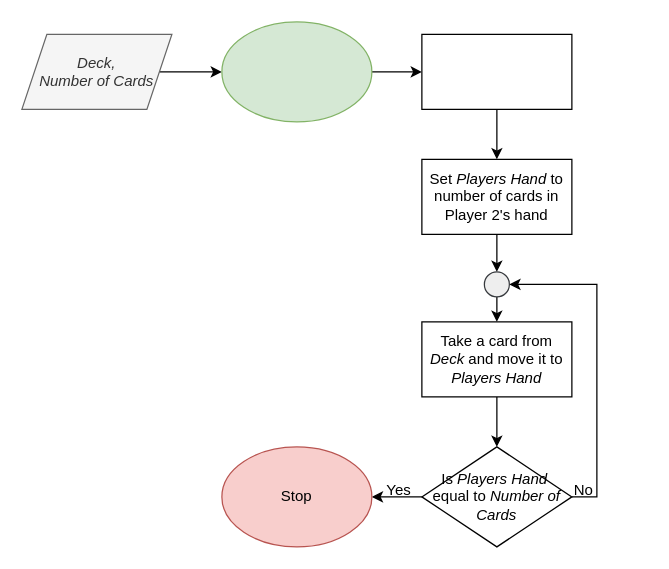
Image size: 669x569. Some labels were removed from this diagram. The box of each missing label's shape, as (x1, y1, x2, y2) in pixels:
Set Number of Cards to input from Player 1: (421, 33, 572, 109)
Start: (221, 21, 372, 122)
